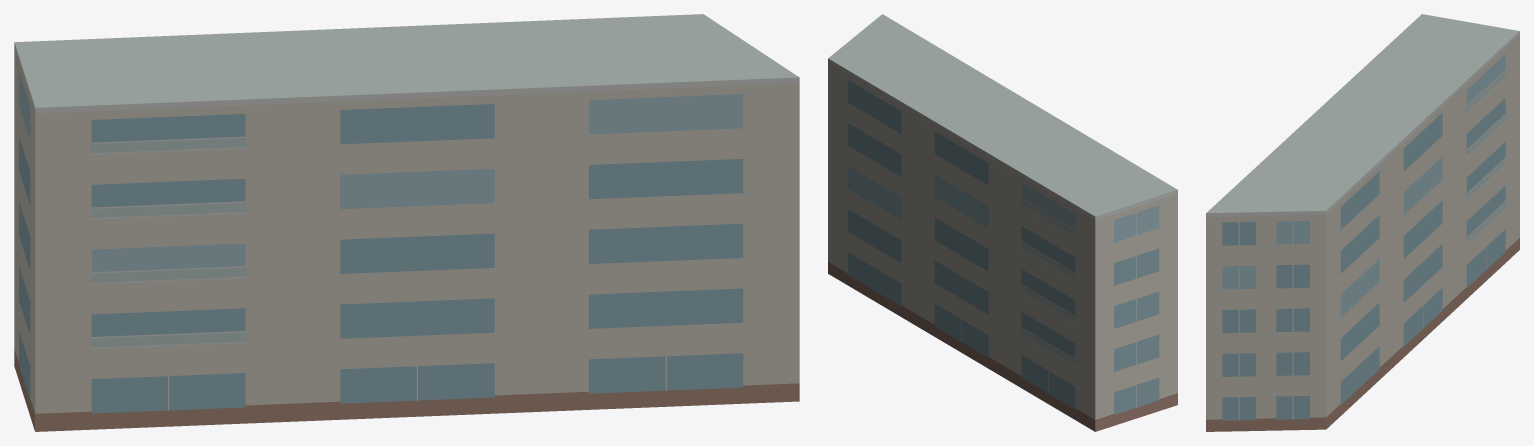
The model's file is survey-upis-32876281.glb.
3 views of the same model, side by side, from view 1: azimuth 30°, elevation 25°; view 2: azimuth 150°, elevation 25°; view 3: azimuth 270°, elevation 25° (orthographic). The views are drawn at different scales.
Visible parts, largest first — view 1: survey-upis-32876281.tmp; view 2: survey-upis-32876281.tmp; view 3: survey-upis-32876281.tmp.
Part boxes in pixels (box(x1,y1,x2,y2)): survey-upis-32876281.tmp: box(14, 14, 799, 431); survey-upis-32876281.tmp: box(828, 14, 1177, 431); survey-upis-32876281.tmp: box(1206, 14, 1519, 431).
Size of the model in its own units: 27.15 by 13.9 by 18.08.
